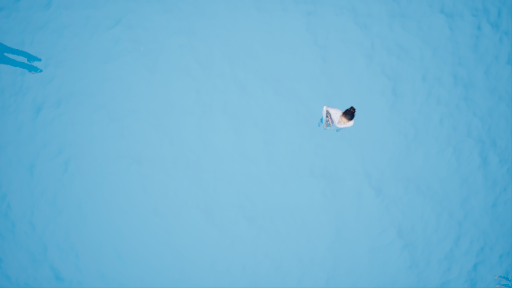person: (318, 104, 357, 135)
